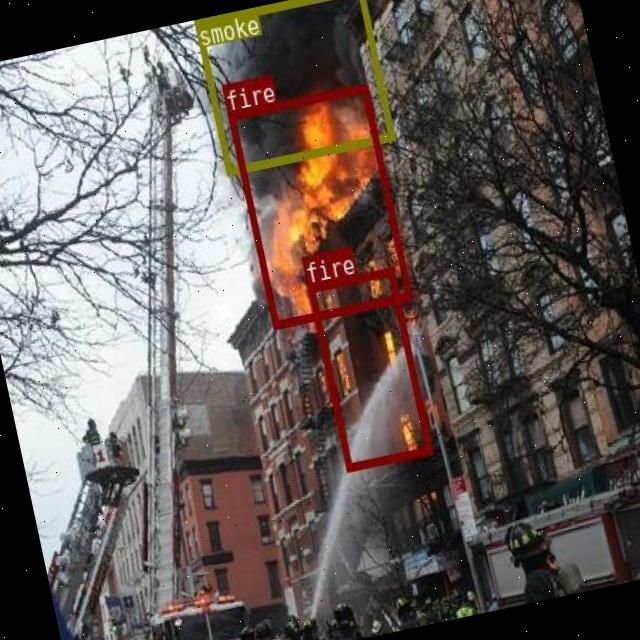fire: (227, 83, 411, 327), (306, 265, 431, 470)
smoke: (191, 0, 391, 172)
